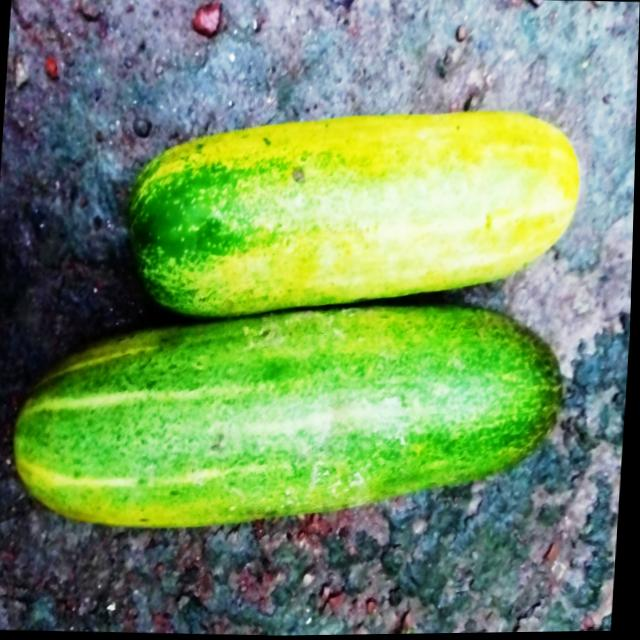Fresh-Cucumber: (7, 287, 575, 548), (118, 97, 586, 333)
